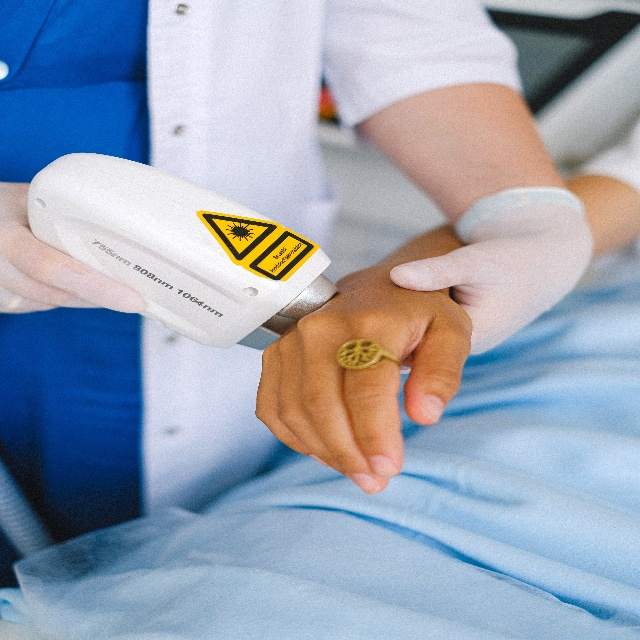Guantes: (390, 198, 593, 337), (0, 184, 146, 322)
Sin_guantes: (255, 273, 477, 494)
